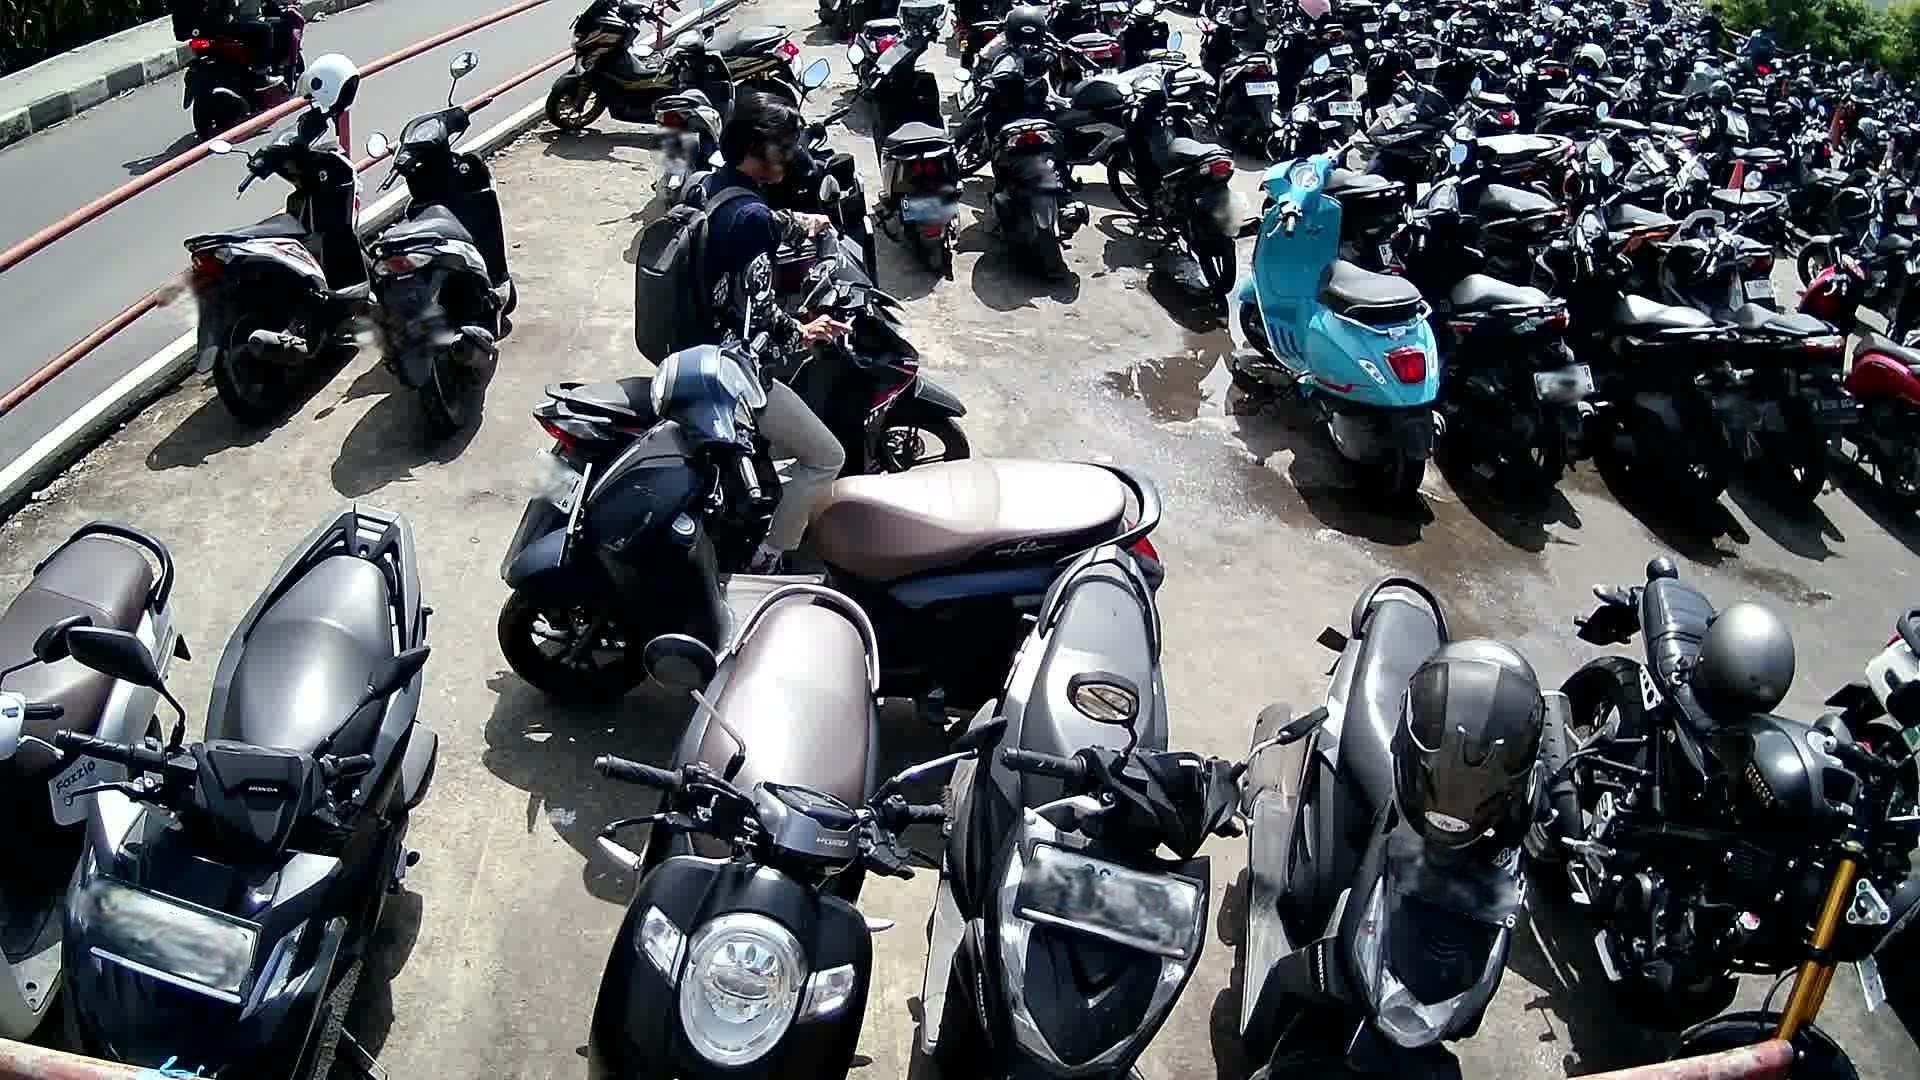motorcycle: (497, 327, 1162, 711), (59, 498, 436, 1080), (1543, 554, 1920, 1080), (915, 542, 1283, 1080), (591, 584, 943, 1080), (1237, 574, 1545, 1080), (502, 231, 972, 541), (0, 520, 191, 1033), (1378, 146, 1598, 505), (1236, 140, 1449, 508), (1524, 193, 1756, 509), (1644, 207, 1866, 513), (185, 100, 373, 421), (364, 53, 518, 433), (1795, 239, 1920, 512)
